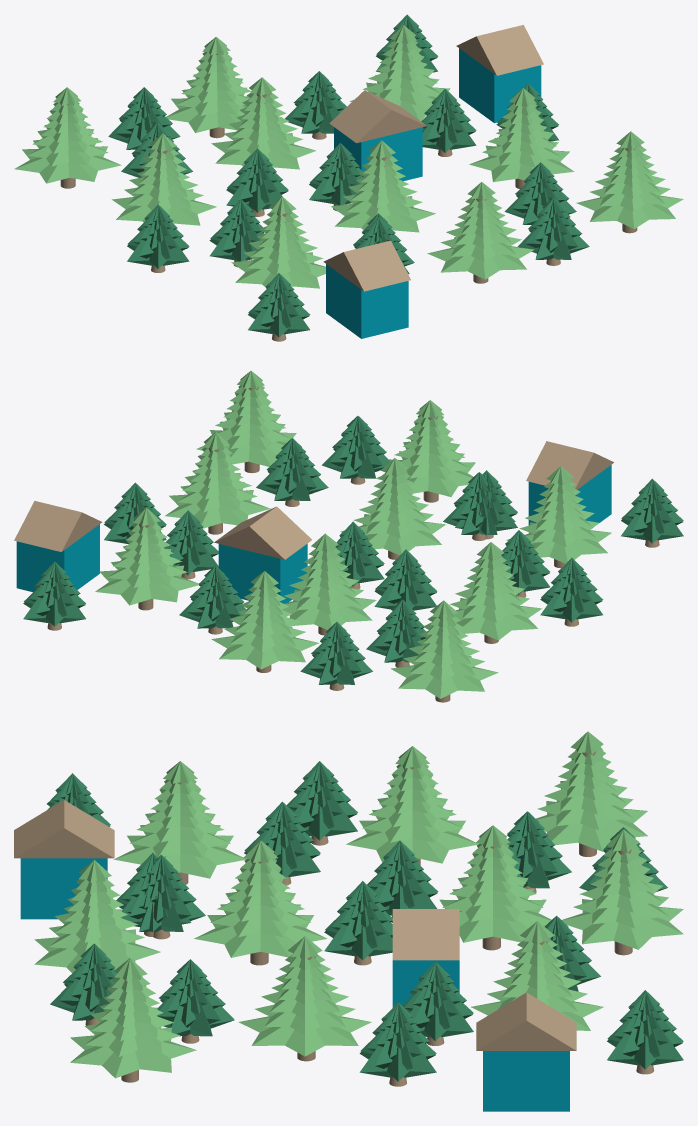
File: Forest_with_huts.glb
3 views of the same model, one above another, from view 1: azimuth 30°, elevation 25°; view 2: azimuth 150°, elevation 25°; view 3: azimuth 270°, elevation 25° (orthographic). The views are drawn at different scales.
Parts seen in each view (by area): view 1: Mesh_Mesh_head_geo.001_lambert2SG.001; view 2: Mesh_Mesh_head_geo.001_lambert2SG.001; view 3: Mesh_Mesh_head_geo.001_lambert2SG.001.
Boxes of the visible parts, bbox=[...] form: Mesh_Mesh_head_geo.001_lambert2SG.001: bbox=[14, 14, 683, 341]; Mesh_Mesh_head_geo.001_lambert2SG.001: bbox=[14, 370, 683, 702]; Mesh_Mesh_head_geo.001_lambert2SG.001: bbox=[14, 731, 683, 1111].
Bounding box in the file's own units: 204 × 40 × 200.
